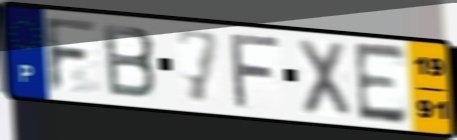7: (175, 26, 222, 108)
B: (100, 21, 160, 102)
E: (351, 40, 410, 128)
F: (42, 14, 101, 96), (229, 32, 285, 112)
X: (295, 36, 355, 122)
